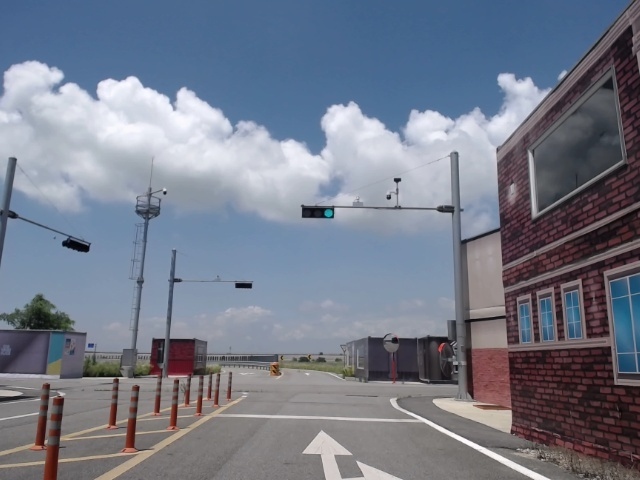green_3: (302, 207, 335, 218)
